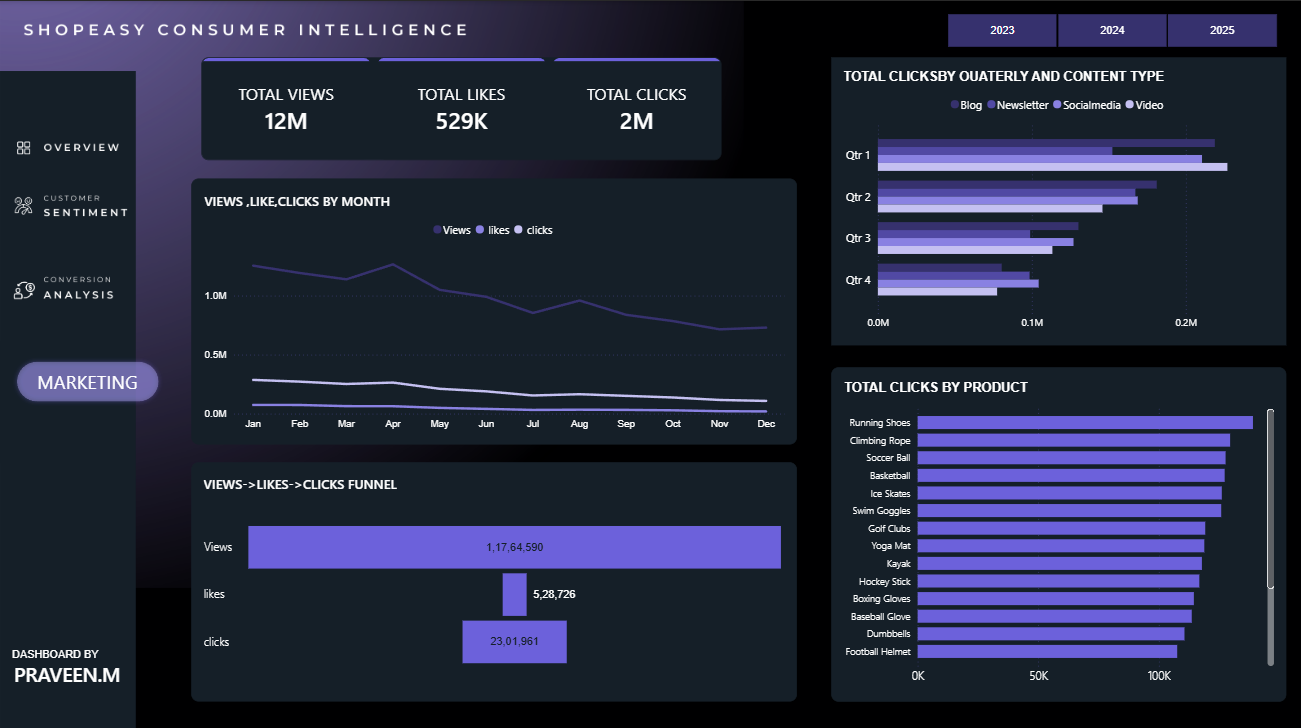

The dashboard page shown, as its layout file describes it:
{"tool":"powerbi","page":{"name":"Marketing Performance","canvas":[1600,900],"ordinal":3},"visuals":[{"type":"shape","box":[235,566.7,743.3,293.3],"z":0},{"type":"cardVisual","fields":{"Data":["Sum(engagement_data_cleaned.Views)","Sum(engagement_data_cleaned.likes)","Sum(engagement_data_cleaned.clicks)"]},"box":[246.7,68.3,638.3,126.7],"z":1000},{"type":"lineChart","title":"VIEWS ,LIKE,CLICKS BY MONTH","fields":{"Y":["Sum(engagement_data_cleaned.Views)","Sum(engagement_data_cleaned.likes)","Sum(engagement_data_cleaned.clicks)"],"Category":["Calendar.MonthNameShort"]},"box":[235,218.3,743.3,326.7],"z":2000},{"type":"funnel","title":"VIEWS->LIKES->CLICKS FUNNEL","fields":{"Y":["Sum(engagement_data_cleaned.Views)","Sum(engagement_data_cleaned.likes)","Sum(engagement_data_cleaned.clicks)"]},"box":[235,566.7,743.3,293.3],"z":3000},{"type":"barChart","title":"TOTAL CLICKS BY PRODUCT","fields":{"Y":["Sum(engagement_data_cleaned.clicks)"],"Category":["products.ProductName"]},"box":[1020,450,558.3,410],"z":4000},{"type":"clusteredBarChart","title":"TOTAL CLICKSBY OUATERLY AND CONTENT TYPE ","fields":{"Category":["Calendar.Date.Variation.Date Hierarchy.Quarter"],"Y":["Sum(engagement_data_cleaned.clicks)"],"Series":["engagement_data_cleaned.ContentType"]},"box":[1020,68.3,558.3,353.3],"z":5000},{"type":"shape","box":[0,416.7,158.3,150],"z":6000},{"type":"shape","box":[0,421.7,215,90],"z":7000},{"type":"pageNavigator","box":[0,205,183.3,100],"z":8000},{"type":"pageNavigator","box":[0,305,183.3,100],"z":9000},{"type":"pageNavigator","box":[0,131.7,183.3,100],"z":10000},{"type":"slicer","fields":{"Values":["Calendar.Date.Variation.Date Hierarchy.Year"]},"box":[1142.6,13.1,442.6,44.3],"z":11000},{"type":"textbox","box":[0,794.5,158,66],"z":12000}]}

Visuals, with their boxes in screenshot pixels (x1, y1, x2, y2), scaled from the page's 1600x900 canvas onto the 1301x728 screenshot:
shape: rect(191, 458, 795, 696)
cardVisual - Sum(engagement_data_cleaned.Views) x Sum(engagement_data_cleaned.likes): rect(201, 55, 720, 158)
"VIEWS ,LIKE,CLICKS BY MONTH" lineChart: rect(191, 177, 795, 441)
"VIEWS->LIKES->CLICKS FUNNEL" funnel: rect(191, 458, 795, 696)
"TOTAL CLICKS BY PRODUCT" barChart: rect(829, 364, 1283, 696)
"TOTAL CLICKSBY OUATERLY AND CONTENT TYPE " clusteredBarChart: rect(829, 55, 1283, 341)
shape: rect(0, 337, 129, 458)
shape: rect(0, 341, 175, 414)
pageNavigator: rect(0, 166, 149, 247)
pageNavigator: rect(0, 247, 149, 328)
pageNavigator: rect(0, 107, 149, 187)
slicer - Calendar.Date.Variation.Date Hierarchy.Year: rect(929, 11, 1289, 46)
textbox: rect(0, 643, 128, 696)
